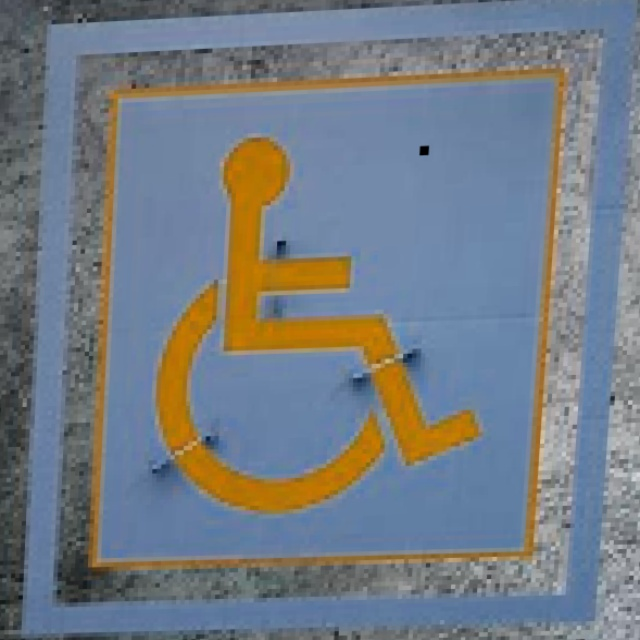ISA: (148, 125, 502, 517)
